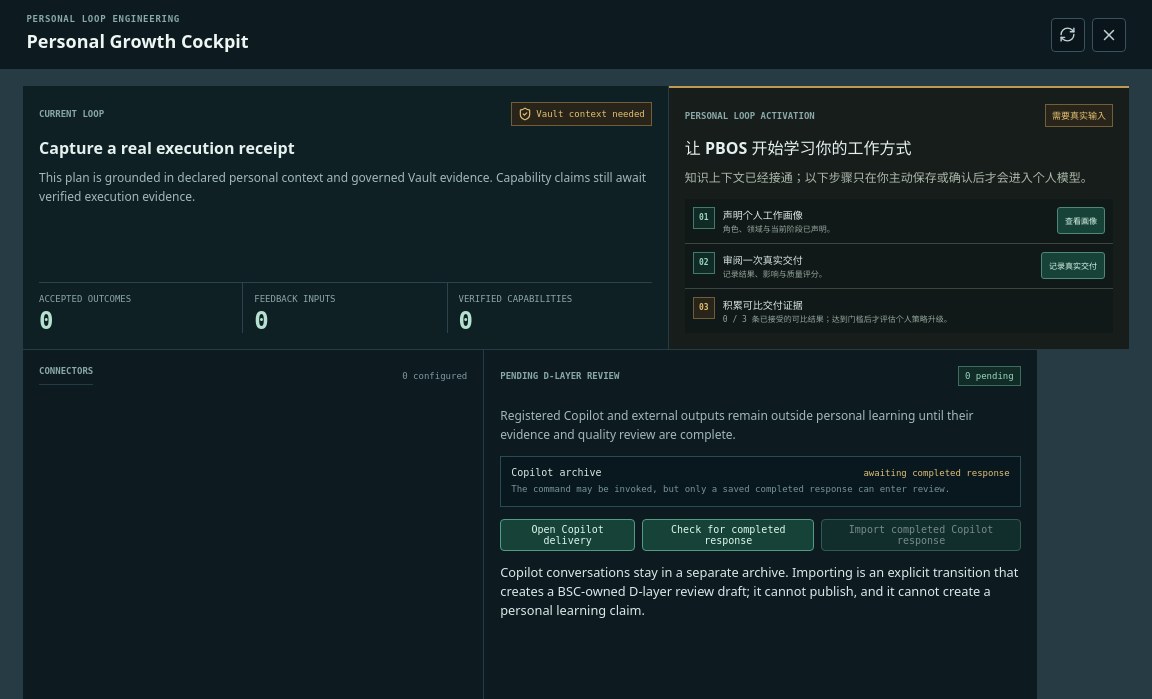
Test: PersonalGrowthCockpit › opens the governed Copilot delivery command without changing D-layer review before sync
Click the button "Open Copilot delivery". click: (568, 535)
box: [500,519,635,551]
(page scrolled)
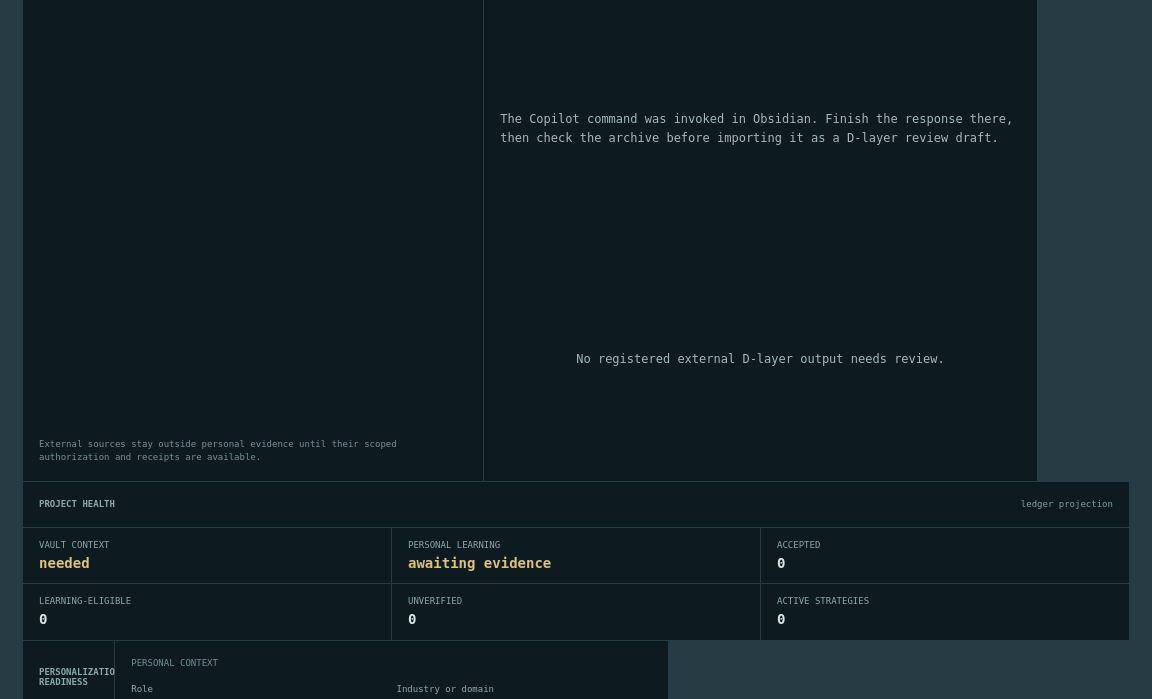
expect the text "Copilot command was invoked in Obsidian" is shown: met, box [500,112,1013,144]
expect the text "No registered external D-layer output needs review." is shown: met, box [576,352,945,366]
